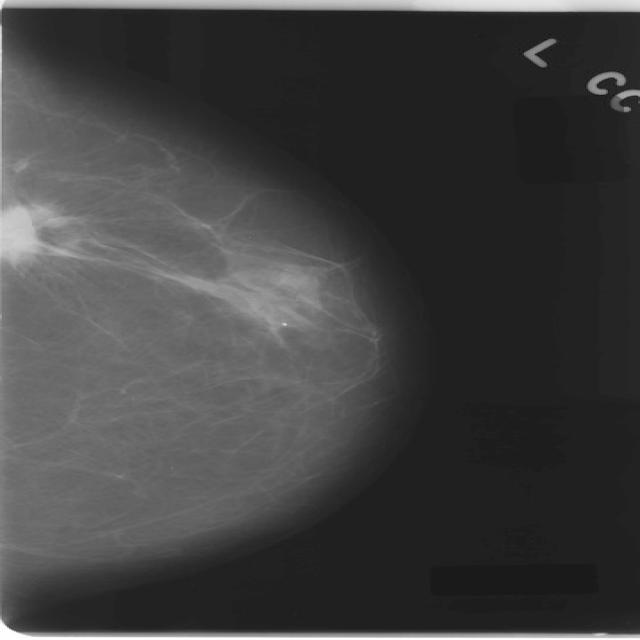tumour: (0, 202, 55, 264)
